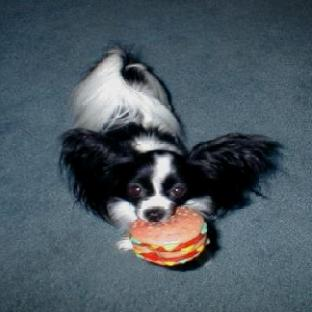Animal: (61, 48, 278, 250)
